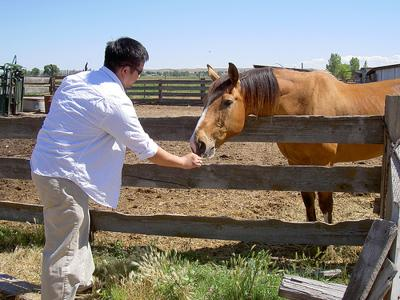person: (30, 36, 204, 300)
